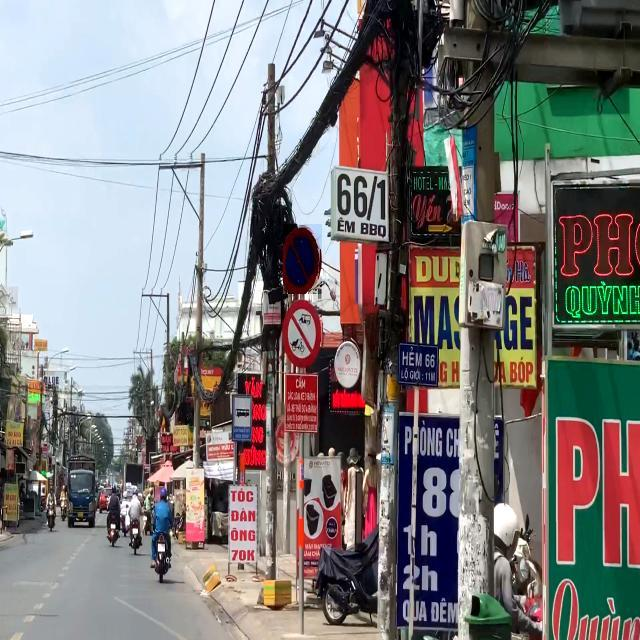P-131a: (283, 224, 322, 294)
